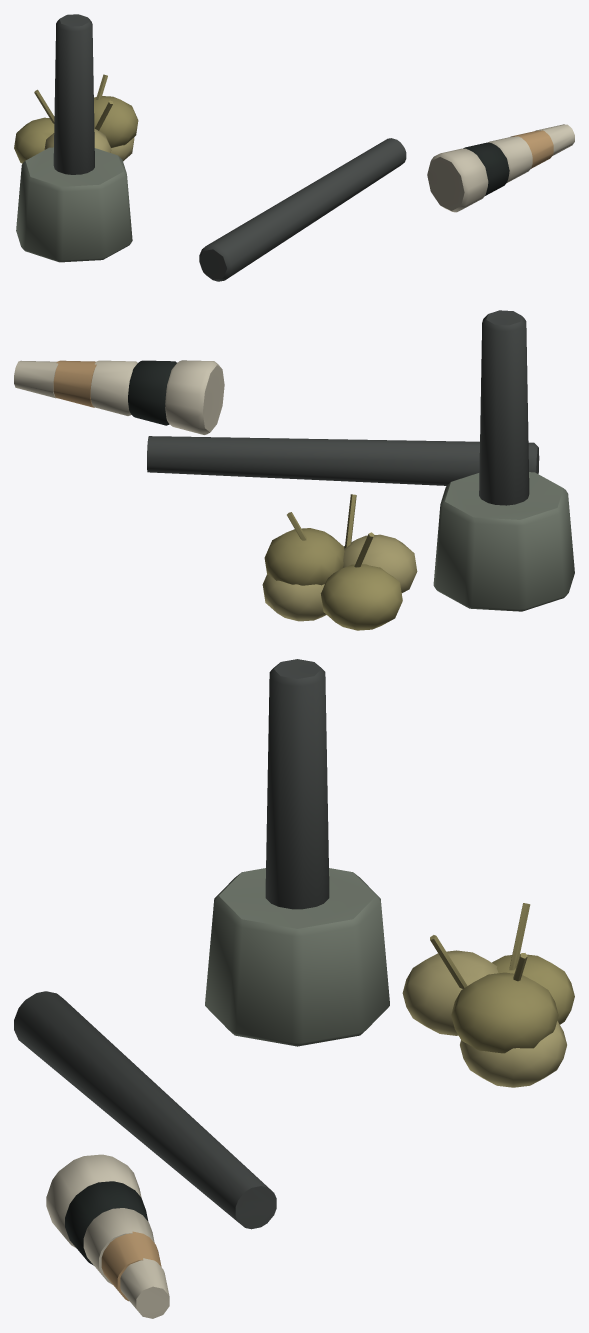
The model's file is windsock_b.glb.
3 views of the same model, one above another, from view 1: azimuth 30°, elevation 25°; view 2: azimuth 150°, elevation 25°; view 3: azimuth 270°, elevation 25° (orthographic). The views are drawn at different scales.
Parts seen in each view (by area): view 1: Surface; view 2: Surface; view 3: Surface.
Boxes of the visible parts, left/top/right/bottom form: Surface: left=14, top=14, right=574, bottom=281; Surface: left=14, top=310, right=574, bottom=630; Surface: left=14, top=659, right=574, bottom=1318.
Size of the model in its own units: 3.59 by 1.5 by 2.24.
